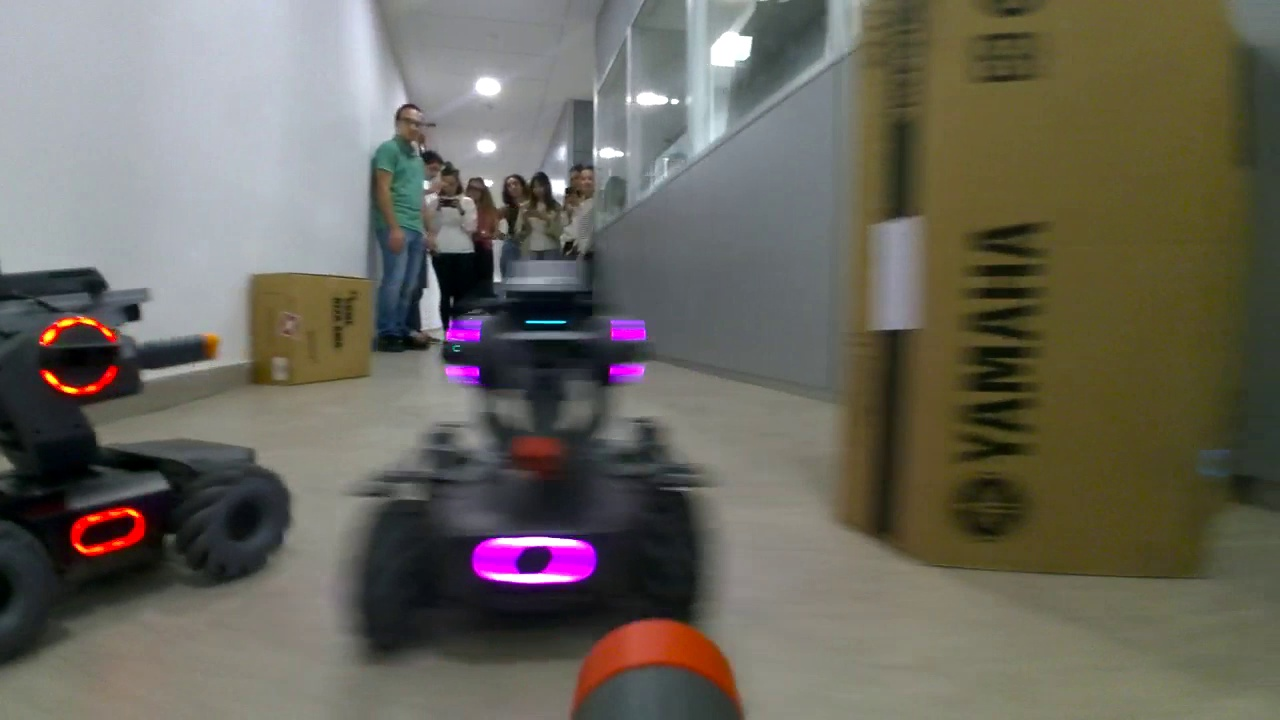robot: (349, 254, 707, 663), (1, 263, 293, 665)
